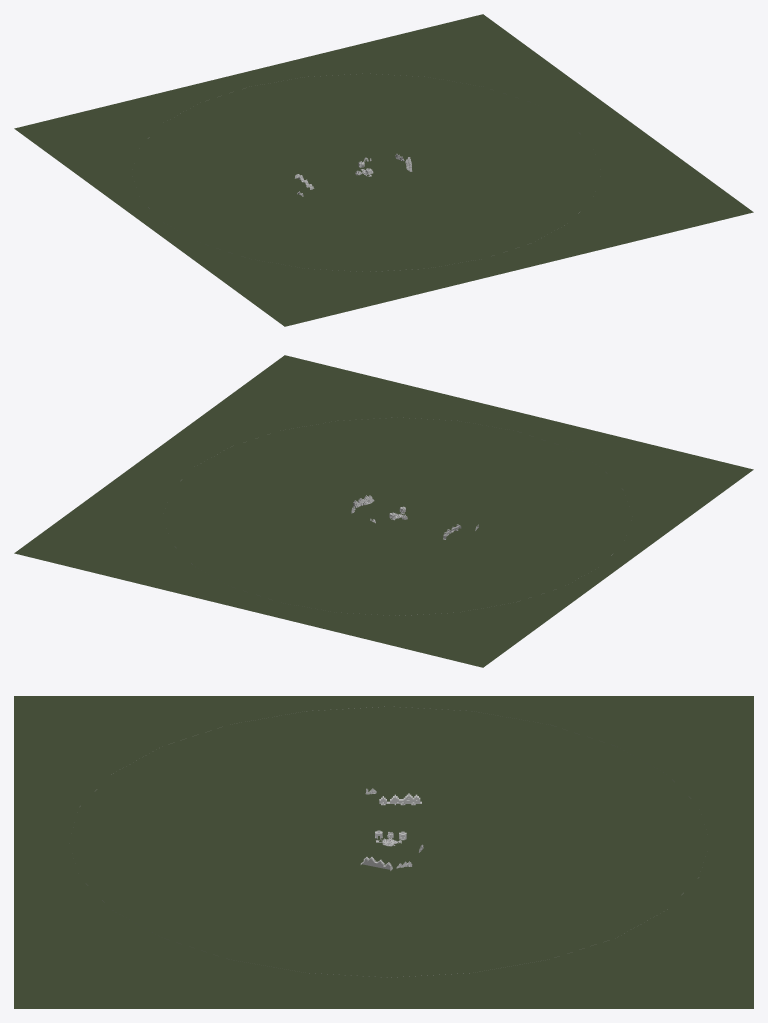
The model's file is Pumpkins.fbx.
3 renders of one model, top to bottom at view 1: azimuth 30°, elevation 25°; view 2: azimuth 150°, elevation 25°; view 3: azimuth 270°, elevation 25°, orthographic. The views are drawn at different scales.
Parts seen in each view (by area): view 1: Pumpkinns_Sea; view 2: Pumpkinns_Sea; view 3: Pumpkinns_Sea, Mauntains1.
Boxes of the visible parts, box(x1,y1,x2,y2) form: Pumpkinns_Sea: box(14, 14, 753, 326); Pumpkinns_Sea: box(14, 355, 753, 667); Pumpkinns_Sea: box(14, 696, 753, 1008); Mauntains1: box(360, 788, 421, 870).
Size of the model in its own units: 3000 by 69.17 by 3000.
